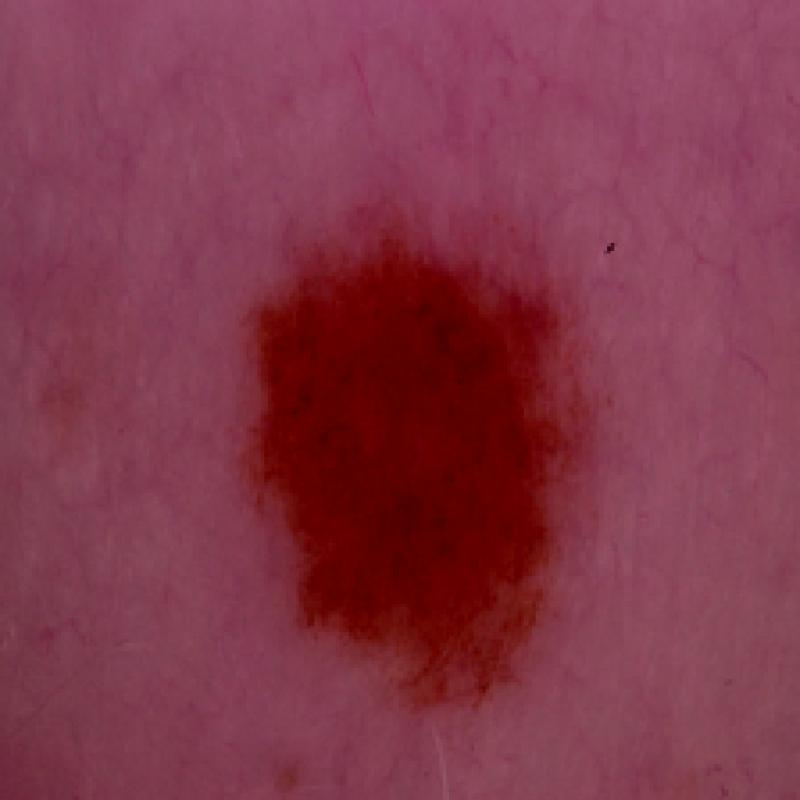benign: (232, 201, 603, 734)
